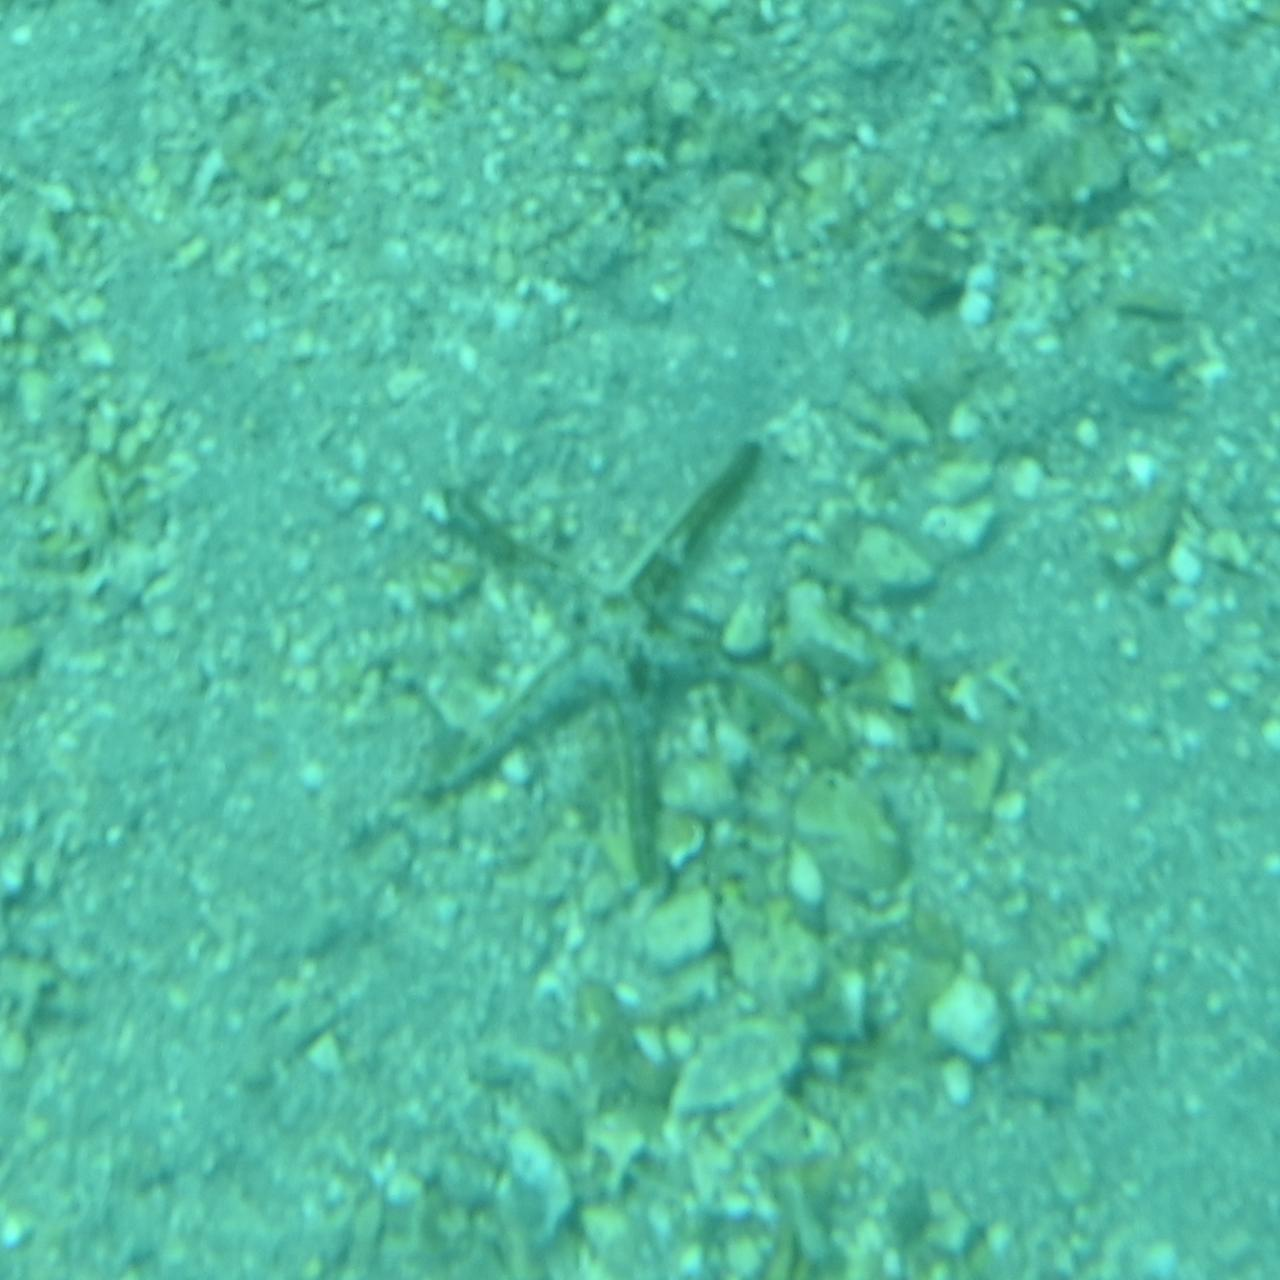Astropecten spp: (421, 427, 859, 853)
